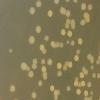white: (27, 35, 37, 47), (82, 11, 91, 24), (78, 17, 86, 27), (77, 37, 85, 47), (73, 54, 81, 64), (70, 18, 76, 31), (10, 83, 17, 94), (64, 18, 71, 29), (28, 7, 36, 16), (34, 0, 43, 8), (46, 9, 54, 18), (20, 60, 26, 72), (41, 71, 49, 80), (73, 77, 79, 89), (59, 6, 66, 16), (35, 24, 42, 34), (49, 40, 56, 50), (82, 66, 89, 76), (47, 56, 53, 67), (82, 89, 90, 97), (80, 2, 87, 11), (27, 70, 34, 79), (52, 89, 61, 96), (65, 60, 72, 69), (60, 28, 66, 38), (89, 55, 95, 65), (43, 34, 50, 42), (31, 56, 38, 64), (40, 65, 48, 72), (56, 70, 63, 78), (62, 64, 69, 72), (75, 88, 82, 96), (83, 95, 94, 100), (65, 8, 71, 17), (66, 29, 72, 38), (31, 91, 37, 100), (89, 88, 95, 97), (79, 80, 85, 89), (65, 85, 72, 92), (40, 49, 48, 55), (58, 41, 64, 49), (51, 94, 59, 100), (56, 62, 62, 70), (86, 81, 92, 89), (88, 3, 93, 12), (54, 40, 59, 49), (8, 48, 14, 55), (70, 40, 76, 47), (40, 58, 46, 65), (86, 53, 92, 60), (52, 0, 60, 5), (38, 80, 43, 88), (50, 84, 54, 94), (39, 44, 45, 50), (32, 64, 38, 70), (75, 48, 80, 55), (79, 72, 84, 79), (91, 72, 96, 79), (72, 0, 80, 4), (26, 64, 30, 72), (96, 72, 100, 80), (65, 39, 70, 45), (95, 59, 100, 65), (64, 0, 71, 3), (97, 53, 100, 60), (90, 65, 94, 69)
